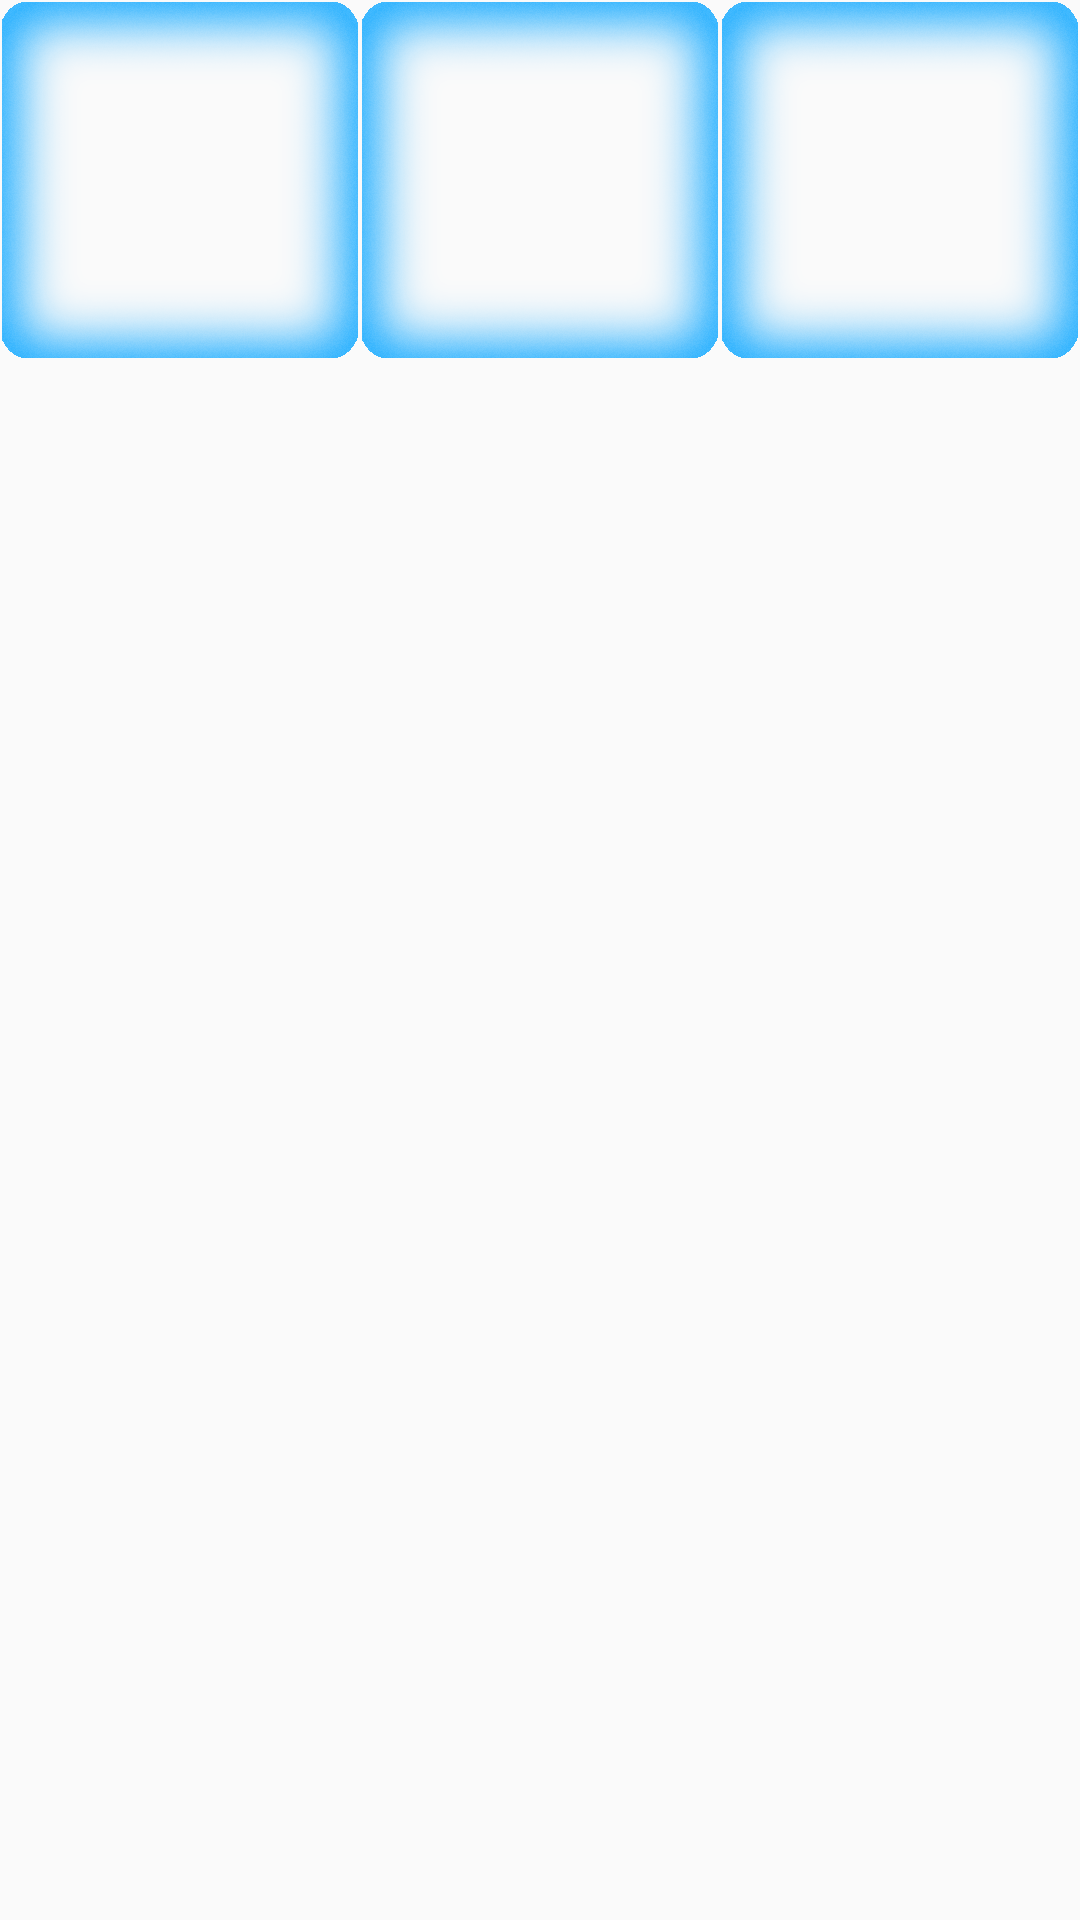

Locate icon controls on the screen. Image size 1080 × 1920, boxes as (left=x1, top=y1, right=x2, bottom=y2).
tilehighlight: (left=2, top=2, right=358, bottom=358), (left=362, top=2, right=718, bottom=358), (left=722, top=2, right=1078, bottom=358)
